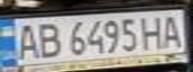4: (84, 17, 106, 55)
5: (118, 15, 142, 52)
6: (63, 18, 87, 56)
9: (103, 17, 124, 54)
A: (9, 20, 42, 61), (157, 12, 187, 48)
B: (33, 20, 63, 60)
H: (136, 13, 169, 51)
